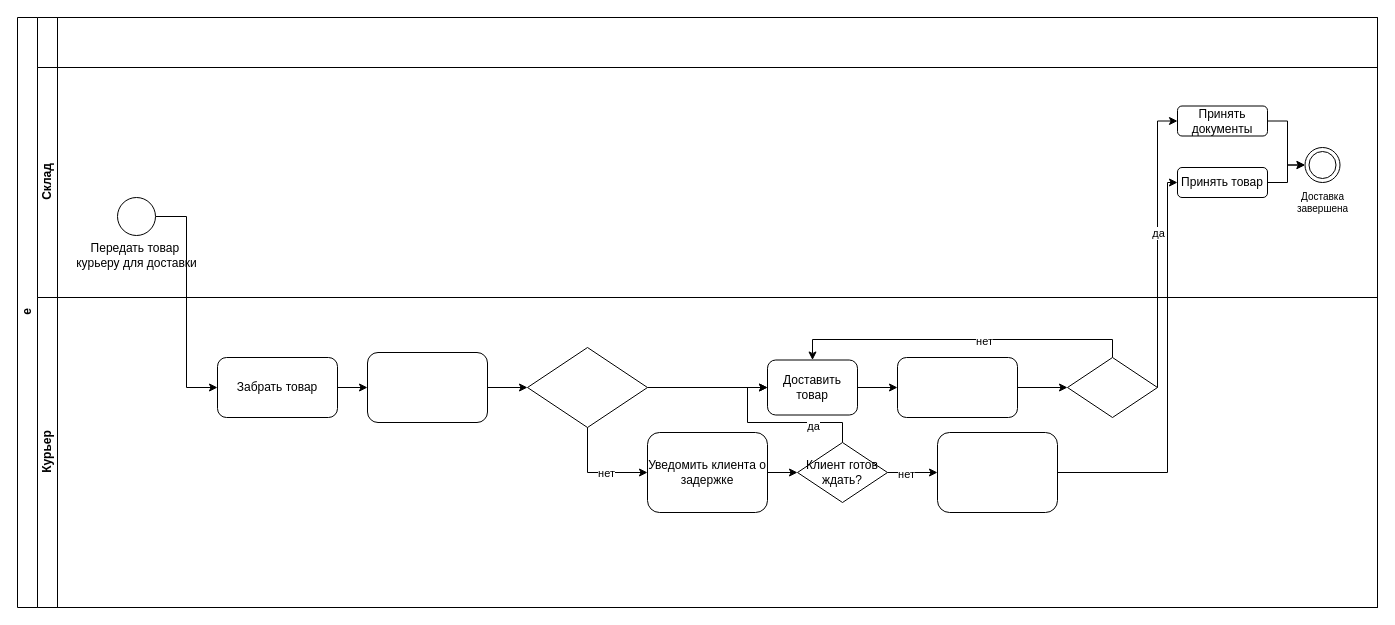
Image size: 1395x625. Some labels were removed from this diagram. The shapes that lost their labels are listed below. From the top down, each one's centre as x and y in pixels, then its label:
the point at 427,387: Выехать в доставку
the point at 587,387: Могу доставить в срок?
the point at 957,387: Подождать документы у покупателя
the point at 1112,387: Есть документы?
the point at 997,472: Вернуть товар на склад
